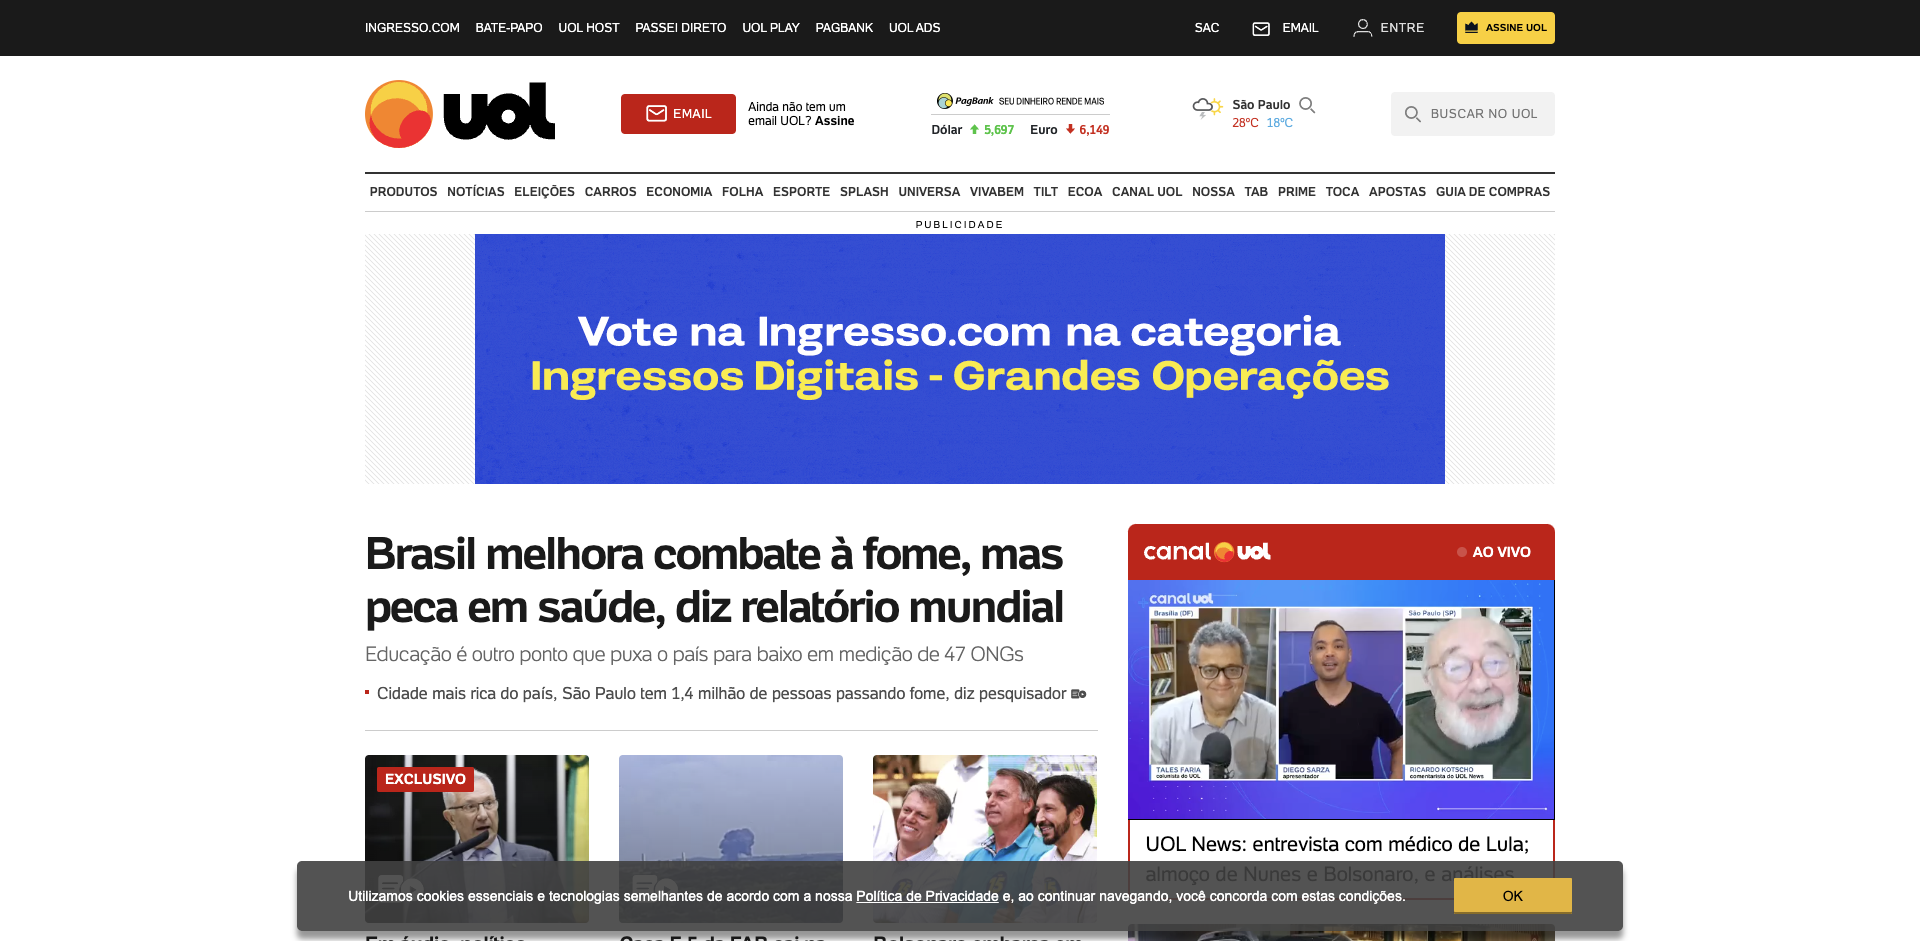button: (978, 326, 1239, 366), (978, 374, 1239, 414), (978, 549, 1239, 589), (1391, 92, 1555, 136), (1453, 879, 1572, 914), (978, 430, 1239, 445), (1457, 12, 1555, 44), (1297, 103, 1325, 131), (1138, 785, 1162, 810), (1521, 785, 1545, 810), (1182, 785, 1205, 810)
input: (1423, 107, 1543, 121)
link: (365, 524, 1097, 667), (365, 755, 589, 941), (620, 755, 844, 941), (873, 755, 1097, 941), (365, 80, 555, 292), (365, 682, 1097, 706), (1128, 924, 1555, 941), (1431, 172, 1555, 212), (621, 94, 736, 134), (1144, 537, 1271, 569), (1193, 98, 1297, 131), (748, 99, 860, 129), (1107, 172, 1188, 212), (989, 604, 1228, 618), (365, 172, 442, 212), (937, 91, 1104, 109), (642, 172, 718, 212), (509, 172, 580, 212), (894, 172, 965, 212), (442, 172, 509, 212), (768, 172, 835, 212), (1364, 172, 1431, 212), (965, 172, 1029, 212), (580, 172, 642, 212), (835, 172, 894, 212), (856, 888, 999, 904), (1188, 172, 1239, 212), (718, 172, 768, 212), (1273, 172, 1321, 212), (1063, 172, 1107, 212), (1321, 172, 1364, 212), (365, 21, 459, 36), (1029, 172, 1063, 212), (1239, 172, 1273, 212), (636, 21, 726, 36), (932, 123, 1014, 137), (1030, 123, 1109, 137), (475, 21, 542, 36), (1251, 21, 1319, 36), (558, 21, 620, 36), (742, 21, 800, 36), (816, 21, 873, 36), (889, 21, 940, 36), (1250, 239, 1273, 263), (1195, 21, 1220, 36)
